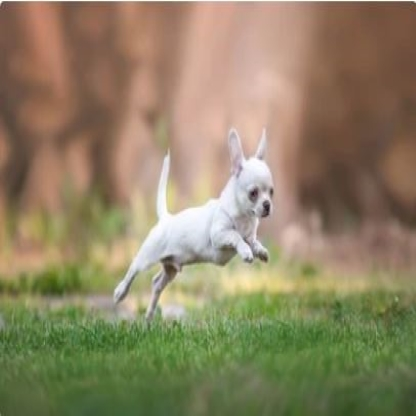chihuahua: (111, 127, 278, 319)
